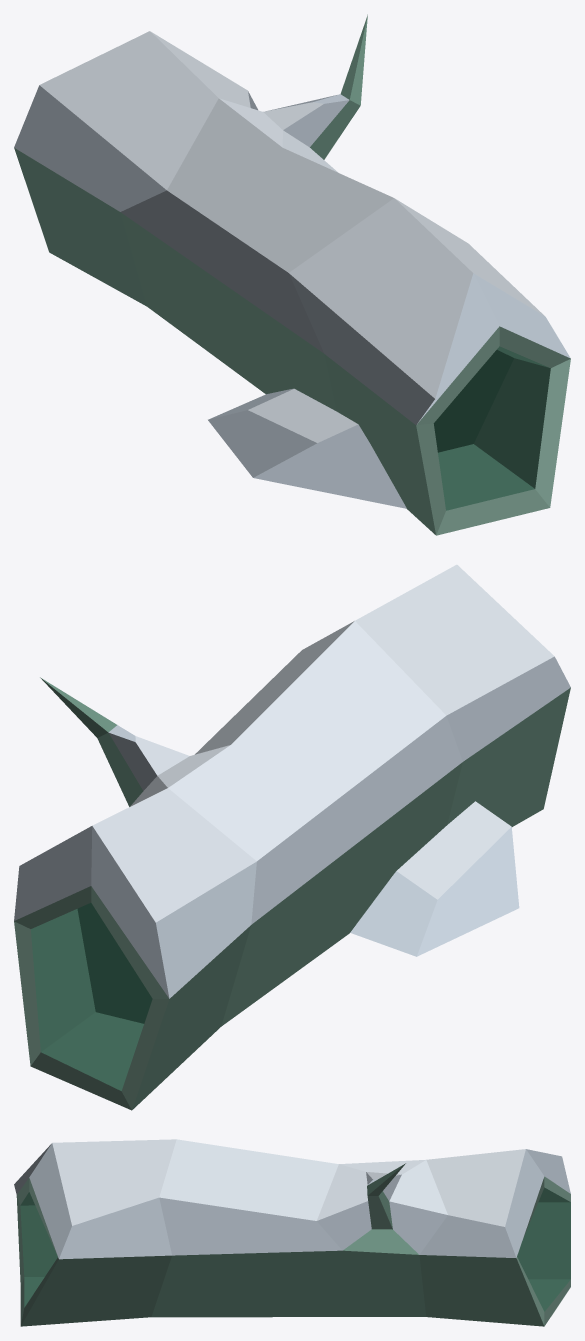
File: FallenLog_Alt3.fbx
3 renders of one model, top to bottom at view 1: azimuth 30°, elevation 25°; view 2: azimuth 150°, elevation 25°; view 3: azimuth 270°, elevation 25°, orthographic. The views are drawn at different scales.
Parts seen in each view (by area): view 1: FallenLog_Alt3; view 2: FallenLog_Alt3; view 3: FallenLog_Alt3.
Boxes of the visible parts, <box> form: FallenLog_Alt3: <box>14,14,570,535</box>; FallenLog_Alt3: <box>14,564,570,1110</box>; FallenLog_Alt3: <box>14,1139,570,1326</box>.
Bounding box in the file's own units: 0.3263 × 0.3013 × 0.7821.
